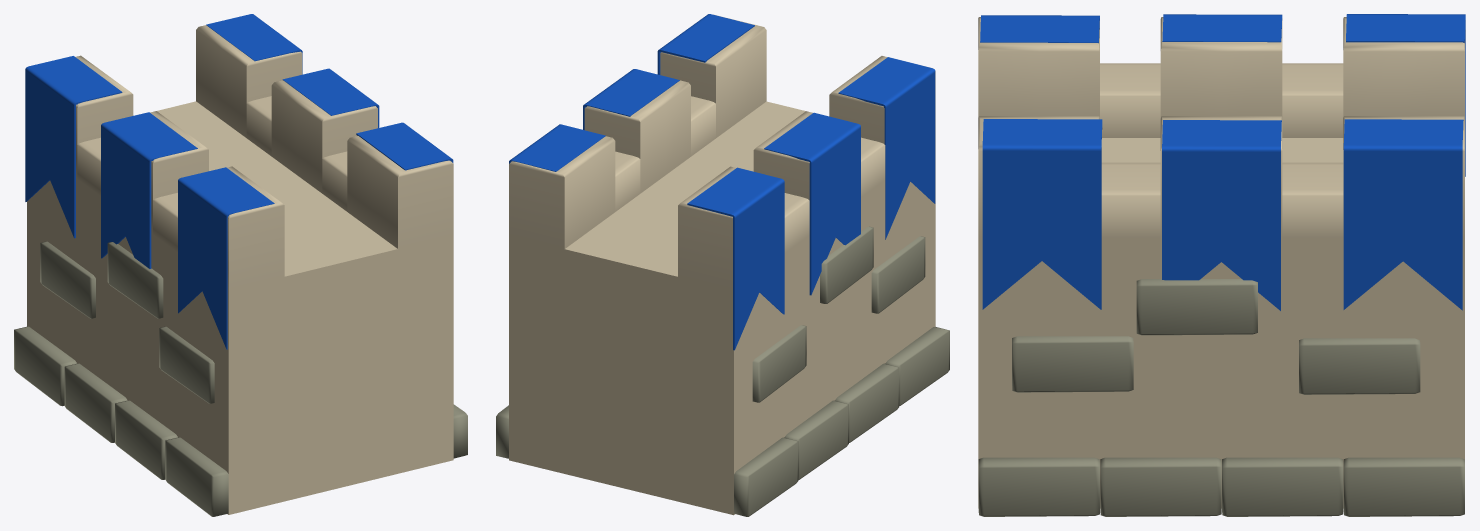
Rendered from Wall_Level2_BlueTeam.glb.
3 renders of one model, left to right at view 1: azimuth 30°, elevation 25°; view 2: azimuth 150°, elevation 25°; view 3: azimuth 270°, elevation 25°, orthographic. The views are drawn at different scales.
Visible parts, largest first — view 1: Wall_Level2_BlueTeam; view 2: Wall_Level2_BlueTeam; view 3: Wall_Level2_BlueTeam.
Boxes of the visible parts, <box> form: Wall_Level2_BlueTeam: <box>14,14,467,516</box>; Wall_Level2_BlueTeam: <box>496,14,949,516</box>; Wall_Level2_BlueTeam: <box>978,14,1465,516</box>.
Size of the model in its own units: 10.77 by 12.12 by 14.78.
